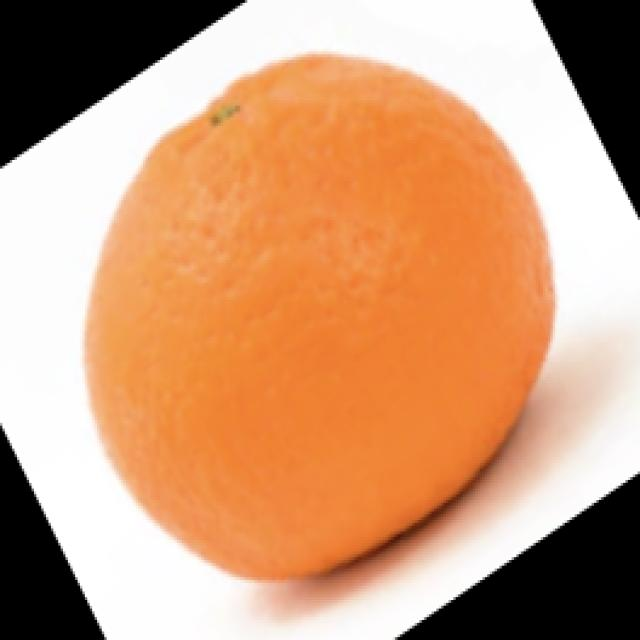matang: (78, 45, 556, 579)
